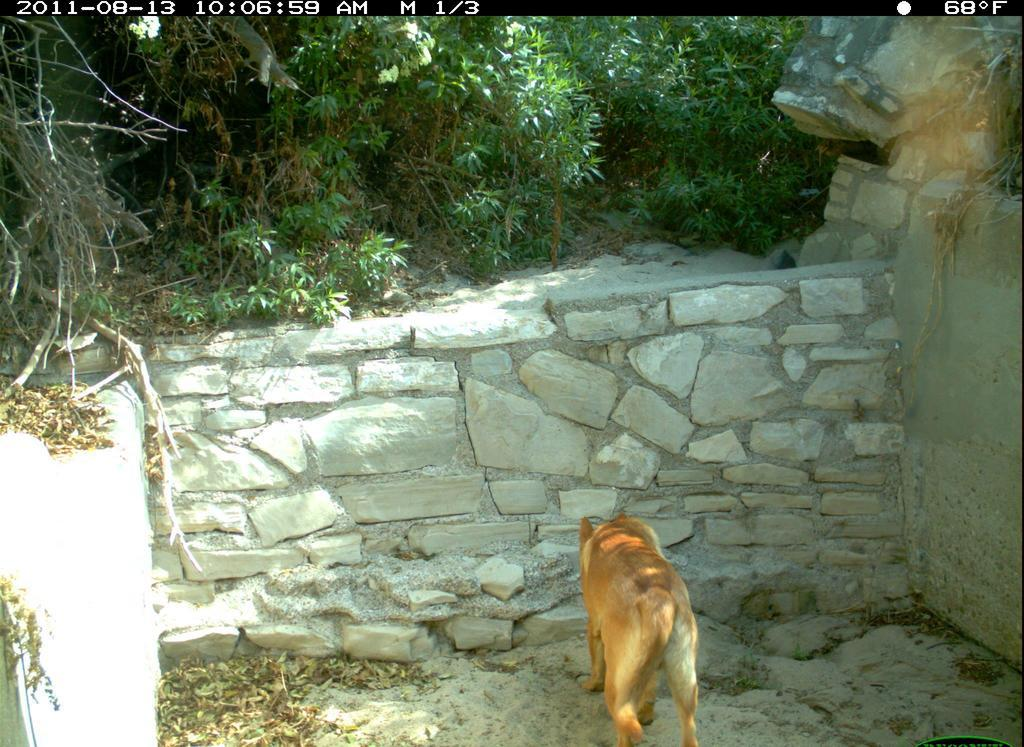dog: (547, 505, 735, 747)
